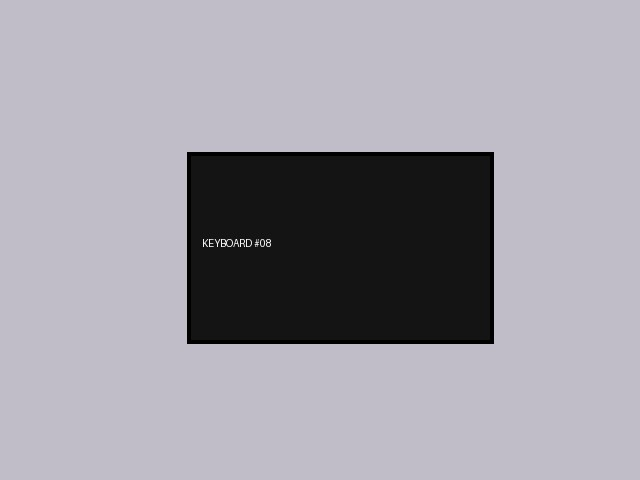keyboard: (187, 152, 493, 343)
